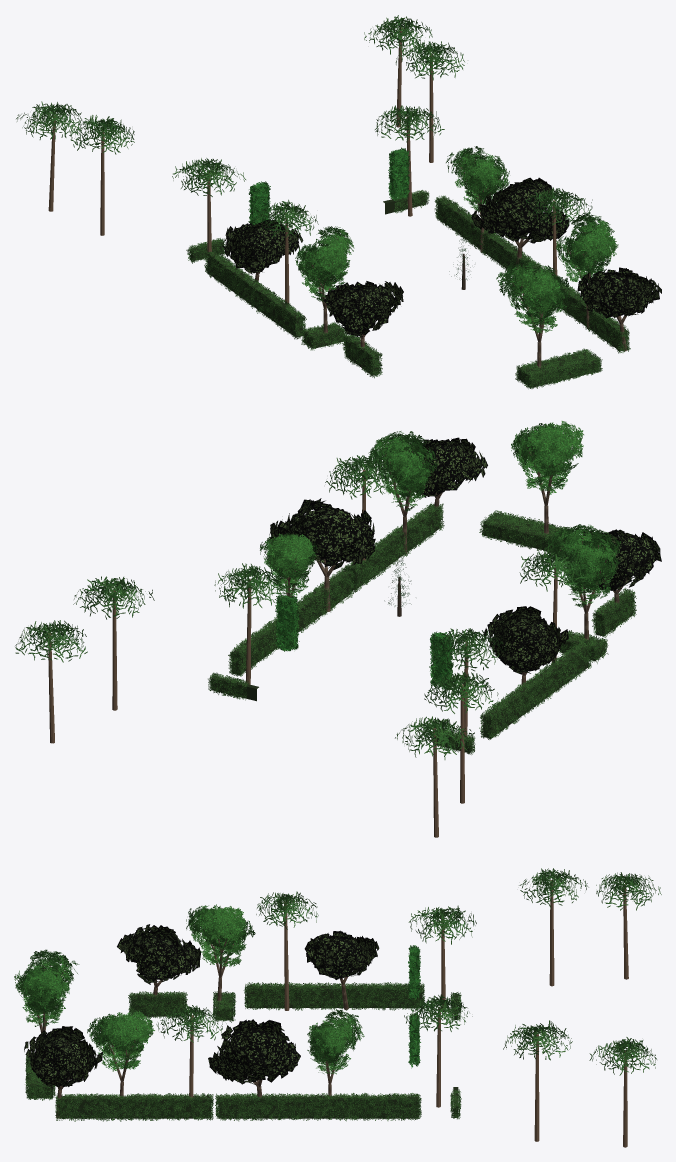
File: planting_set.glb
The picture shows the model from 3 angles, top to bottom: view 1: azimuth 30°, elevation 25°; view 2: azimuth 150°, elevation 25°; view 3: azimuth 270°, elevation 25°; orthographic projection. The views are drawn at different scales.
Parts seen in each view (by area): view 1: MAT_leaf_olive_1, MAT_hedge_leaf_4, MAT_leaf_broad_2, MAT_palm_frond_9, MAT_hedge_core_3, MAT_palm_bark_8, MAT_column_leaf_7, MAT_bark_proc_0; view 2: MAT_hedge_leaf_4, MAT_leaf_broad_2, MAT_leaf_olive_1, MAT_palm_frond_9, MAT_hedge_core_3, MAT_palm_bark_8, MAT_column_leaf_7, MAT_bark_proc_0; view 3: MAT_hedge_leaf_4, MAT_leaf_olive_1, MAT_leaf_broad_2, MAT_palm_frond_9, MAT_hedge_core_3, MAT_palm_bark_8, MAT_bark_proc_0, MAT_column_leaf_7.
Boxes of the visible parts, bbox=[...] form: MAT_leaf_olive_1: bbox=[222, 177, 661, 336]; MAT_hedge_leaf_4: bbox=[186, 190, 630, 388]; MAT_leaf_broad_2: bbox=[295, 146, 618, 333]; MAT_palm_frond_9: bbox=[16, 15, 592, 239]; MAT_hedge_core_3: bbox=[190, 192, 626, 387]; MAT_palm_bark_8: bbox=[48, 27, 557, 304]; MAT_column_leaf_7: bbox=[248, 147, 410, 225]; MAT_bark_proc_0: bbox=[255, 158, 638, 367]; MAT_hedge_leaf_4: bbox=[208, 502, 636, 754]; MAT_leaf_broad_2: bbox=[260, 421, 621, 607]; MAT_leaf_olive_1: bbox=[269, 437, 661, 674]; MAT_palm_frond_9: bbox=[15, 455, 594, 759]; MAT_hedge_core_3: bbox=[211, 505, 633, 752]; MAT_palm_bark_8: bbox=[48, 470, 557, 837]; MAT_column_leaf_7: bbox=[275, 594, 453, 689]; MAT_bark_proc_0: bbox=[284, 446, 627, 684]; MAT_hedge_leaf_4: bbox=[25, 982, 461, 1121]; MAT_leaf_olive_1: bbox=[24, 924, 379, 1088]; MAT_leaf_broad_2: bbox=[14, 904, 364, 1074]; MAT_palm_frond_9: bbox=[156, 868, 661, 1075]; MAT_hedge_core_3: bbox=[28, 985, 458, 1118]; MAT_palm_bark_8: bbox=[189, 880, 628, 1147]; MAT_bark_proc_0: bbox=[37, 924, 348, 1118]; MAT_column_leaf_7: bbox=[408, 945, 420, 1068].
Size of the model in its own units: 31.56 by 8.91 by 44.01.
10 materials, 7 textured.
